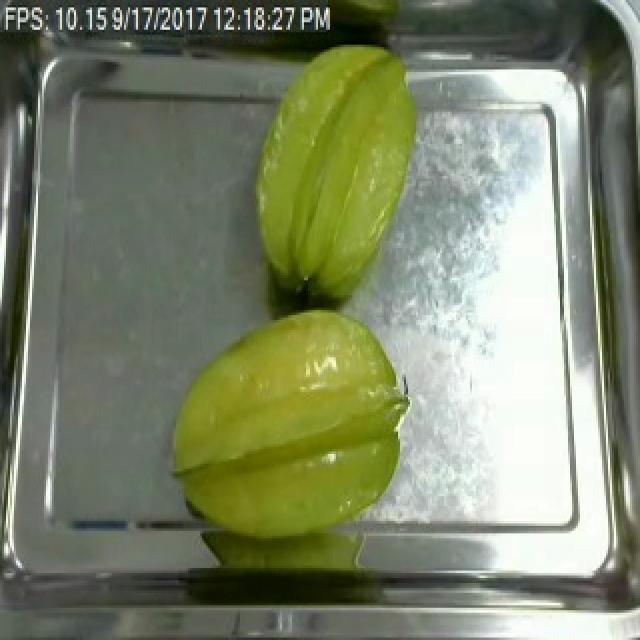fruit: (156, 298, 418, 558), (236, 35, 424, 312)
